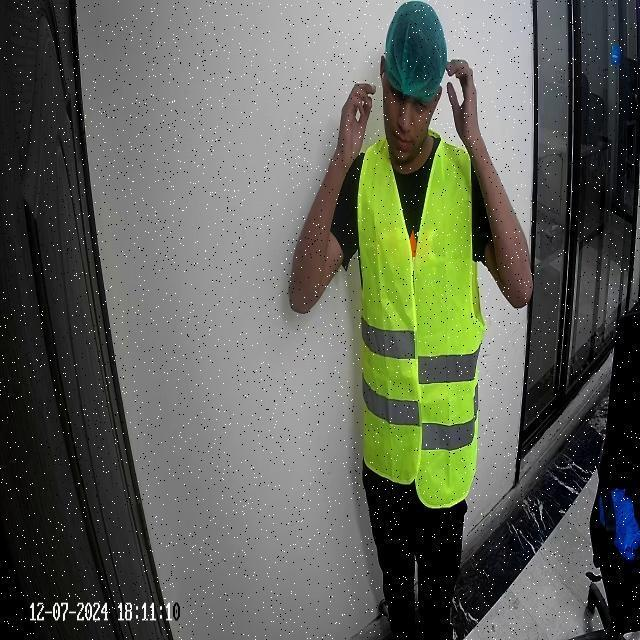gloves: (383, 1, 447, 92)
no_apron: (340, 79, 376, 187), (447, 57, 483, 142)
no_hairnet: (380, 103, 430, 156)
